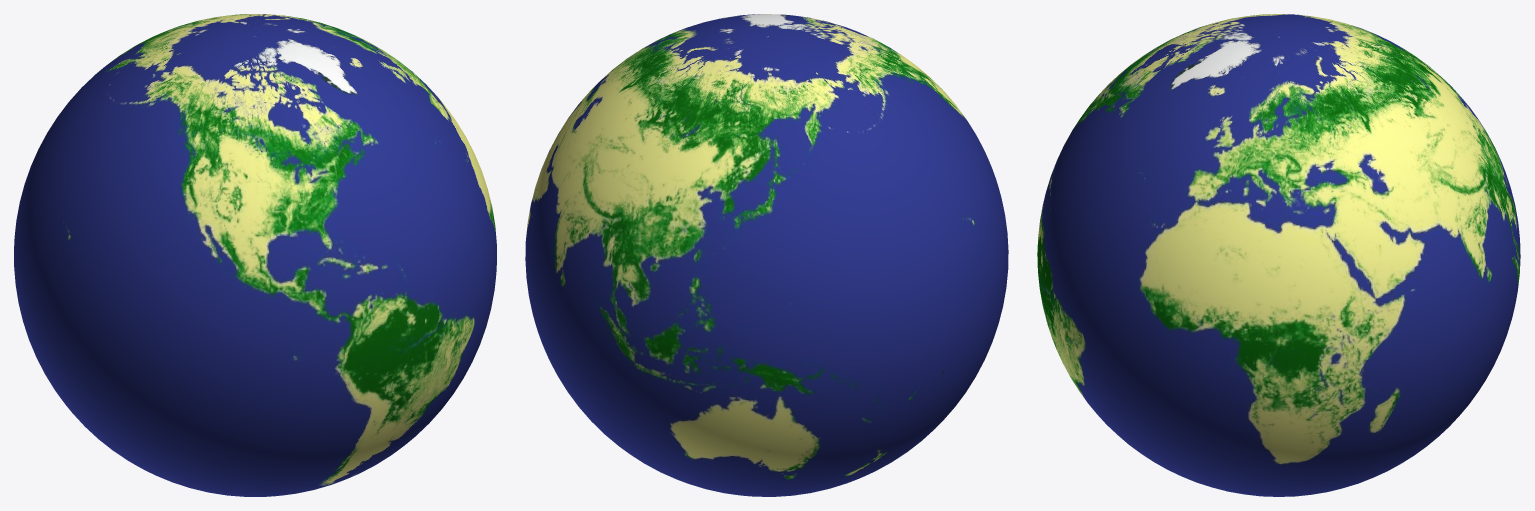
The picture shows the model from 3 angles, left to right: view 1: azimuth 30°, elevation 25°; view 2: azimuth 150°, elevation 25°; view 3: azimuth 270°, elevation 25°; orthographic projection.
Parts seen in each view (by area): view 1: Tierra.001; view 2: Tierra.001; view 3: Tierra.001.
Boxes of the visible parts, bbox=[...] form: Tierra.001: bbox=[14, 14, 496, 496]; Tierra.001: bbox=[525, 14, 1008, 496]; Tierra.001: bbox=[1037, 14, 1520, 496].
Size of the model in its own units: 18 by 18 by 18.
2 materials, 1 textured.
